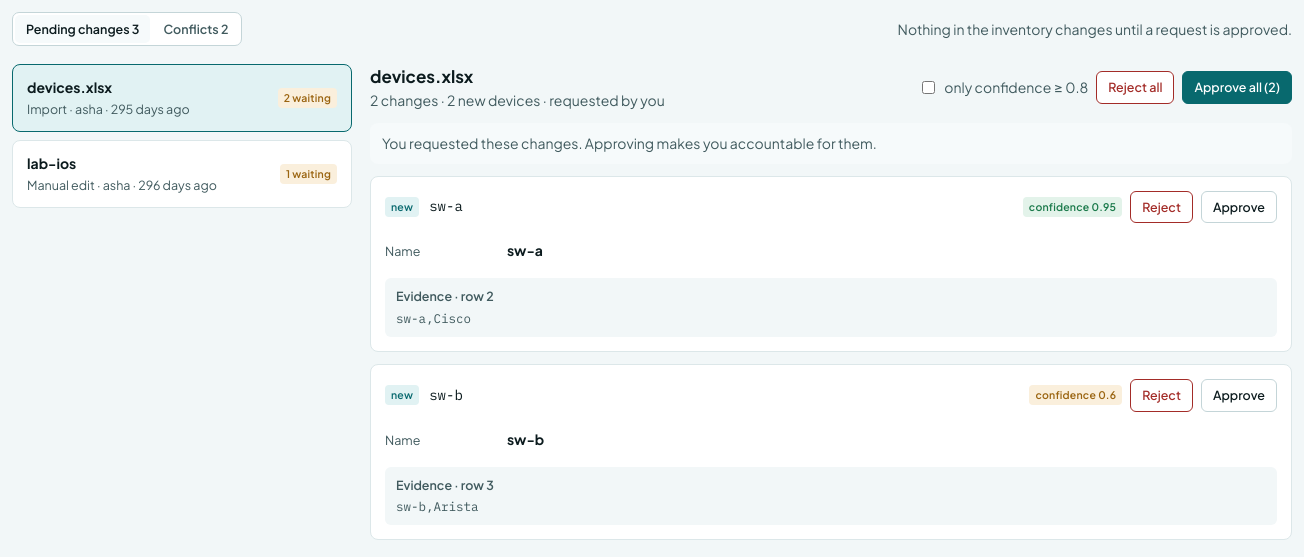
Test: Pending changes › lists the groups and shows the first batch with old to new and evidence
Expected: the heading "devices.xlsx" is shown, x1=370 y1=65 x2=473 y2=87
Expected: the button "Approve all (2)" is shown, x1=1182 y1=71 x2=1292 y2=104
Click the button with test id "group-device:dev-1" at {"x": 52, "y": 163}, box x1=12 y1=140 x2=352 y2=208
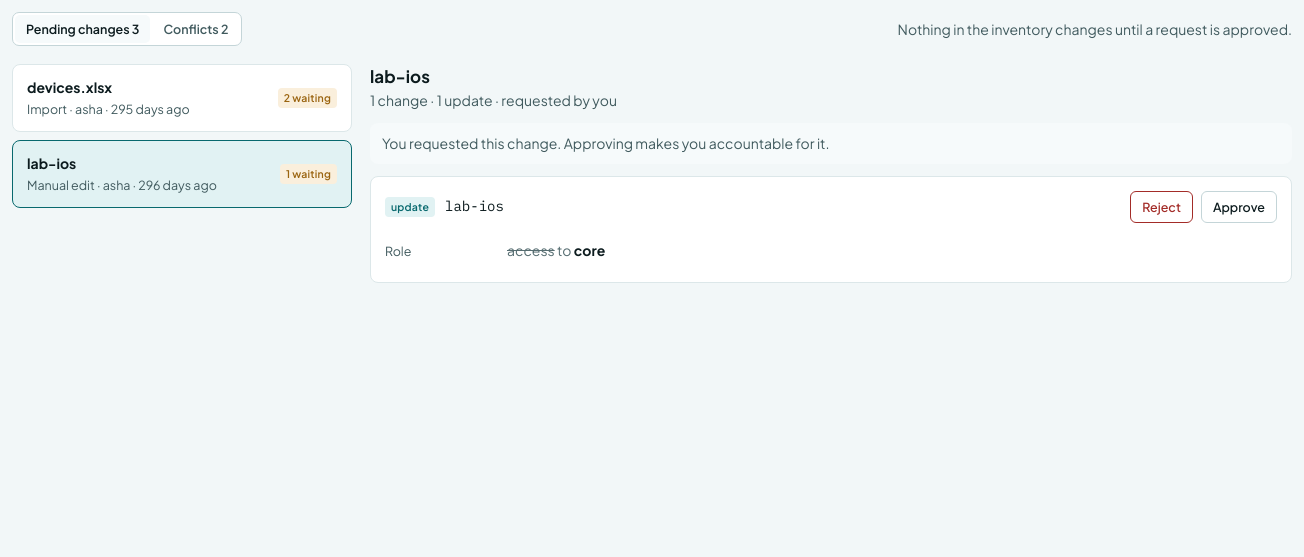
Now the element with test id "diff-prop-1" reads "Role access to core", box x1=385 y1=241 x2=605 y2=259
